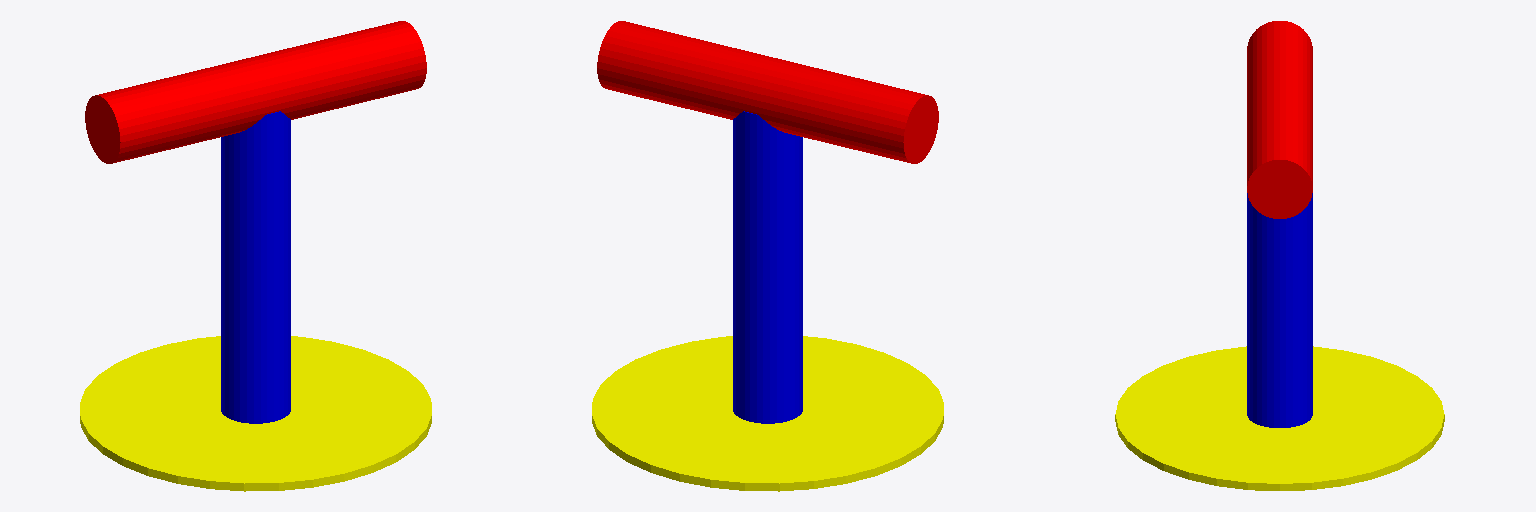
URDF robot description (ex_urdf_pan_tilt):
<?xml version="1.0"?>
<robot name="ex_urdf_pan_tilt">

    <link name="base_link">
        <visual>
            <geometry>
                <cylinder length="0.01" radius="0.2"/>
            </geometry>
            <origin rpy="0 0 0" xyz="0 0 0"/>
            <material name="yellow">
                <color rgba="1 1 0 1"/>
            </material>
        </visual>

        <collision>
            <geometry>
                <cylinder length="0.03" radius="0.2"/>
            </geometry>
            <origin rpy="0 0 0" xyz="0 0 0"/>
        </collision>

        <inertial>
            <mass value="1"/>
            <inertia ixx="1.0" ixy="0.0" ixz="0.0" iyy="1.0" iyz="0.0" izz="1.0"/>
        </inertial>
    </link>

    <joint name="pan_joint" type="revolute">
        <parent link="base_link"/>
        <child link="pan_link"/>
        <origin xyz="0 0 0.1"/>
        <axis xyz="0 0 1" />
        <limit effort="300" velocity="0.1" lower="-3.14" upper="3.14"/>
        <dynamics damping="50" friction="1"/>
    </joint>

    <link name="pan_link">
        <visual>
            <geometry>
                <cylinder length="0.4" radius="0.04"/>
            </geometry>
            <origin rpy="0 0 0" xyz="0 0 0.09"/>
            <material name="red">
                <color rgba="0 0 1 1"/>
            </material>
        </visual>

        <collision>
            <geometry>
                <cylinder length="0.4" radius="0.06"/>
            </geometry>
            <origin rpy="0 0 0" xyz="0 0 0.09"/>
        </collision>

        <inertial>
            <mass value="1"/>
            <inertia ixx="1.0" ixy="0.0" ixz="0.0" iyy="1.0" iyz="0.0" izz="1.0"/>
        </inertial>
    </link>

    <joint name="tilt_joint" type="revolute">
        <parent link="pan_link"/>
        <child link="tilt_link"/>
        <origin xyz="0 0 0.3"/>
        <axis xyz="0 1 0" />
        <limit effort="300" velocity="0.1" lower="-4.71239" upper="-1.570796"/>
        <dynamics damping="50" friction="1"/>
    </joint>

    <link name="tilt_link">
        <visual>
            <geometry>
                <cylinder length="0.4" radius="0.04"/>
            </geometry>
            <origin rpy="0 1.570796 0" xyz="0 0 0"/>
            <material name="green">
                <color rgba="1 0 0 1"/>
            </material>
        </visual>

        <collision>
            <geometry>
                <cylinder length="0.4" radius="0.06"/>
            </geometry>
            <origin rpy="0 1.570796 0" xyz="0 0 0"/>
        </collision>

        <inertial>
            <mass value="1"/>
            <inertia ixx="1.0" ixy="0.0" ixz="0.0" iyy="1.0" iyz="0.0" izz="1.0"/>
        </inertial>
    </link>
    
</robot>

--- Render facts (derived) ---
The picture shows the robot from 3 angles, left to right: view 1: azimuth 30°, elevation 25°; view 2: azimuth 150°, elevation 25°; view 3: azimuth 270°, elevation 25°; orthographic projection.
Model ex_urdf_pan_tilt with 3 links and 2 joints (2 revolute), rooted at base_link, posed all joints at 0 but 1 set to mid-range because 0 is outside their limits (tilt_joint = -3.14).
Links seen in each view (by area): view 1: base_link, tilt_link, pan_link; view 2: base_link, tilt_link, pan_link; view 3: base_link, pan_link, tilt_link.
Boxes of the visible links, box(x1,y1,x2,y2) form: base_link: box(80, 336, 431, 491); tilt_link: box(85, 21, 426, 163); pan_link: box(221, 111, 290, 423); base_link: box(592, 336, 943, 491); tilt_link: box(597, 21, 938, 163); pan_link: box(733, 111, 802, 423); base_link: box(1115, 346, 1444, 490); pan_link: box(1247, 193, 1312, 427); tilt_link: box(1247, 21, 1312, 218).
Bounding box of the posed robot: 0.4 × 0.4 × 0.45 m (x, y, z).
Geometry: primitives only (box / cylinder / sphere), no mesh files.